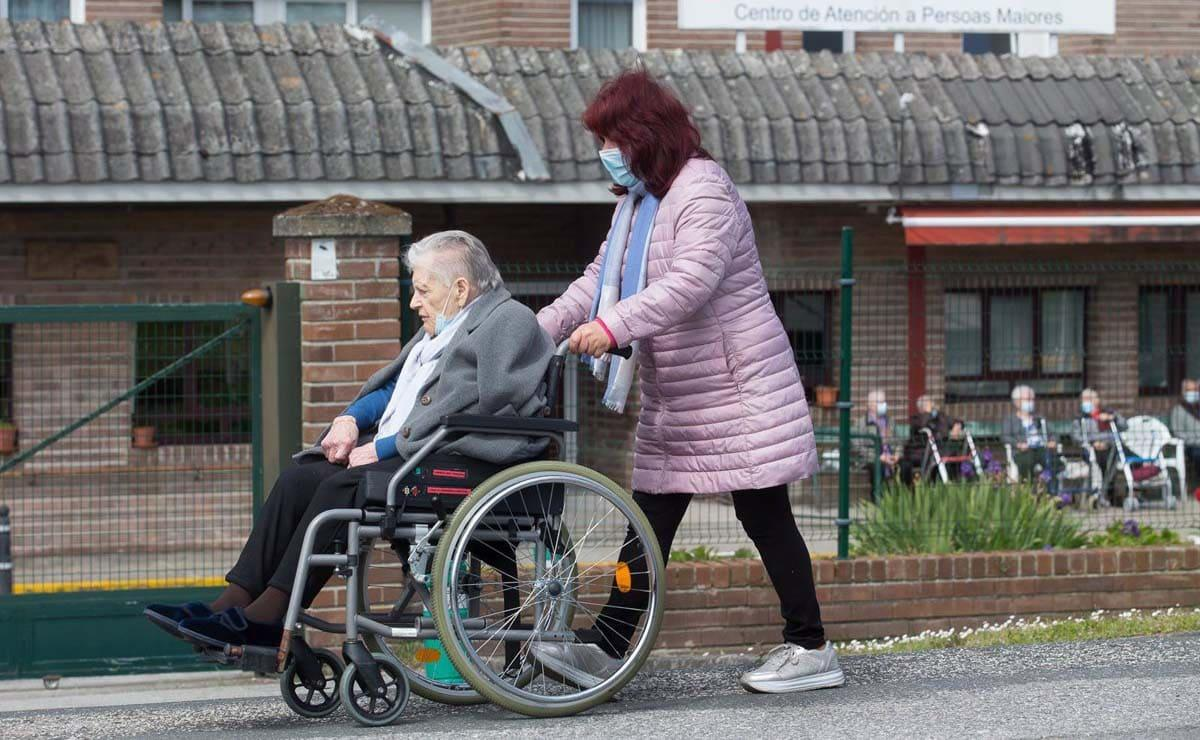push_wheelchair: (469, 67, 847, 695)
wheelchair: (145, 229, 667, 727)
